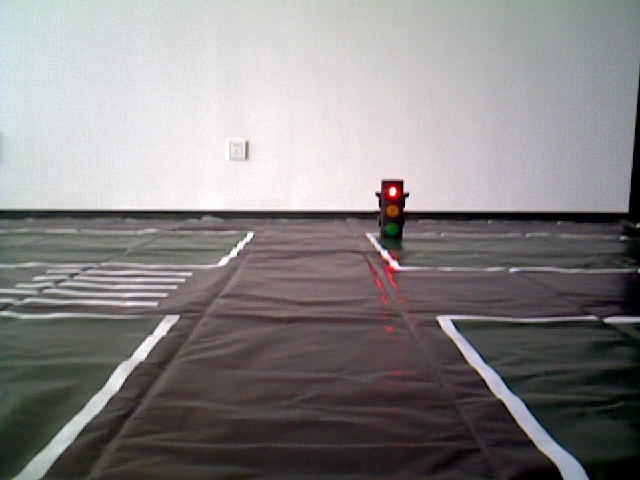red: (380, 177, 403, 240)
